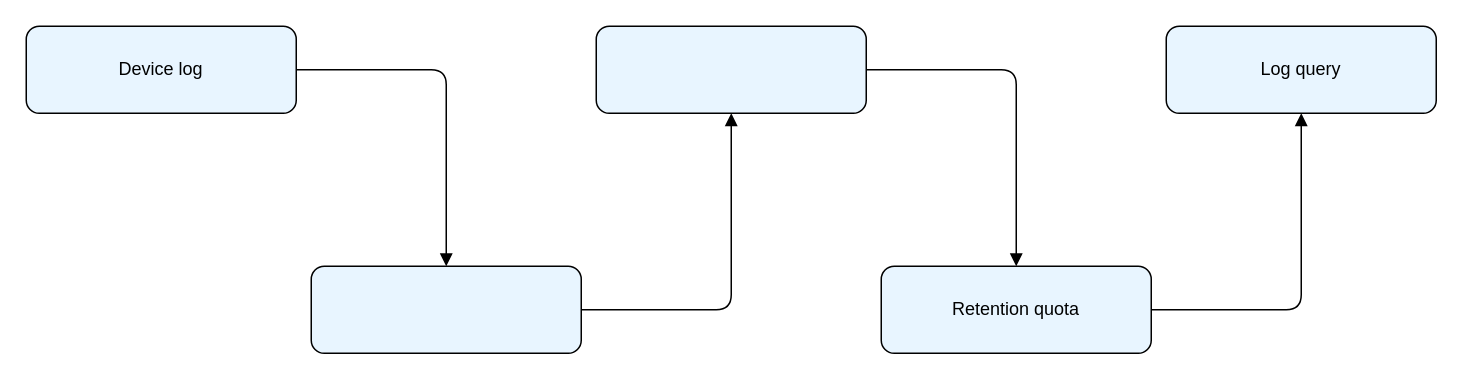
The diagram is 1463 pixels wide and 380 high, and some of its shapes have lost their labels. Each missing label, with the box of its shape:
Analytics SQL: (595, 25, 866, 113)
Archive file: (310, 265, 581, 353)
